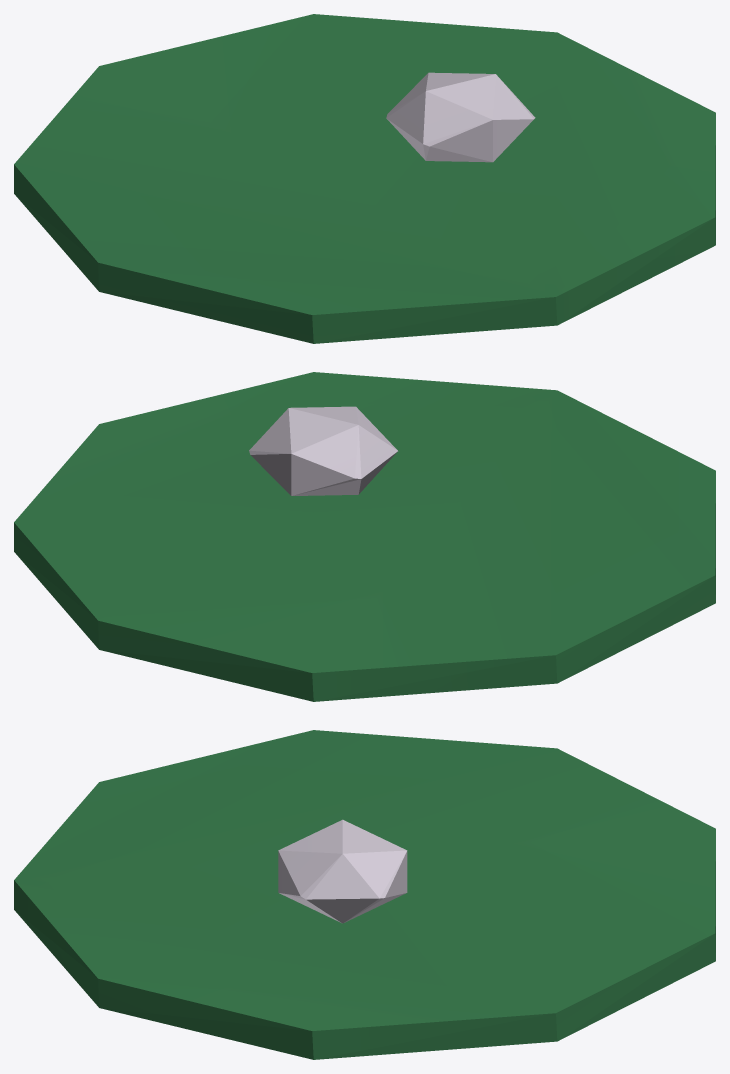
File: prop_lilypad_lod2.glb
3 views of the same model, one above another, from view 1: azimuth 30°, elevation 25°; view 2: azimuth 150°, elevation 25°; view 3: azimuth 270°, elevation 25° (orthographic).
Parts seen in each view (by area): view 1: prop_lilypad_lod2; view 2: prop_lilypad_lod2; view 3: prop_lilypad_lod2.
Boxes of the visible parts, left/top/right/bottom form: prop_lilypad_lod2: left=14, top=14, right=715, bottom=343; prop_lilypad_lod2: left=14, top=372, right=715, bottom=701; prop_lilypad_lod2: left=14, top=730, right=715, bottom=1059.
Size of the model in its own units: 1.08 by 0.1777 by 1.06.
